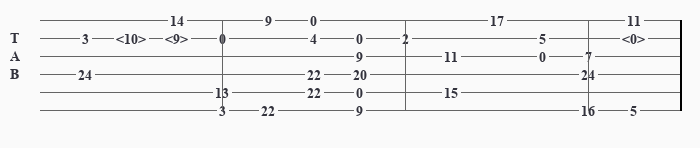0: (219, 31, 230, 45), (310, 13, 321, 27), (356, 31, 367, 45), (356, 85, 367, 99), (539, 49, 550, 63)
11: (444, 49, 462, 63), (627, 13, 645, 27)
13: (215, 85, 233, 99)
14: (170, 13, 188, 27)
15: (444, 85, 462, 99)
16: (581, 103, 599, 117)
17: (490, 13, 508, 27)
2: (402, 31, 413, 45)
20: (353, 67, 371, 81)
22: (261, 103, 279, 117), (307, 67, 325, 81), (307, 85, 325, 99)
24: (78, 67, 96, 81), (581, 67, 599, 81)
3: (82, 31, 93, 45), (219, 103, 230, 117)
4: (310, 31, 321, 45)
5: (539, 31, 550, 45), (630, 103, 641, 117)
7: (585, 49, 596, 63)
9: (265, 13, 276, 27), (356, 49, 367, 63), (356, 103, 367, 117)
harmonic: (116, 31, 150, 45), (165, 31, 192, 45), (622, 31, 649, 45)
